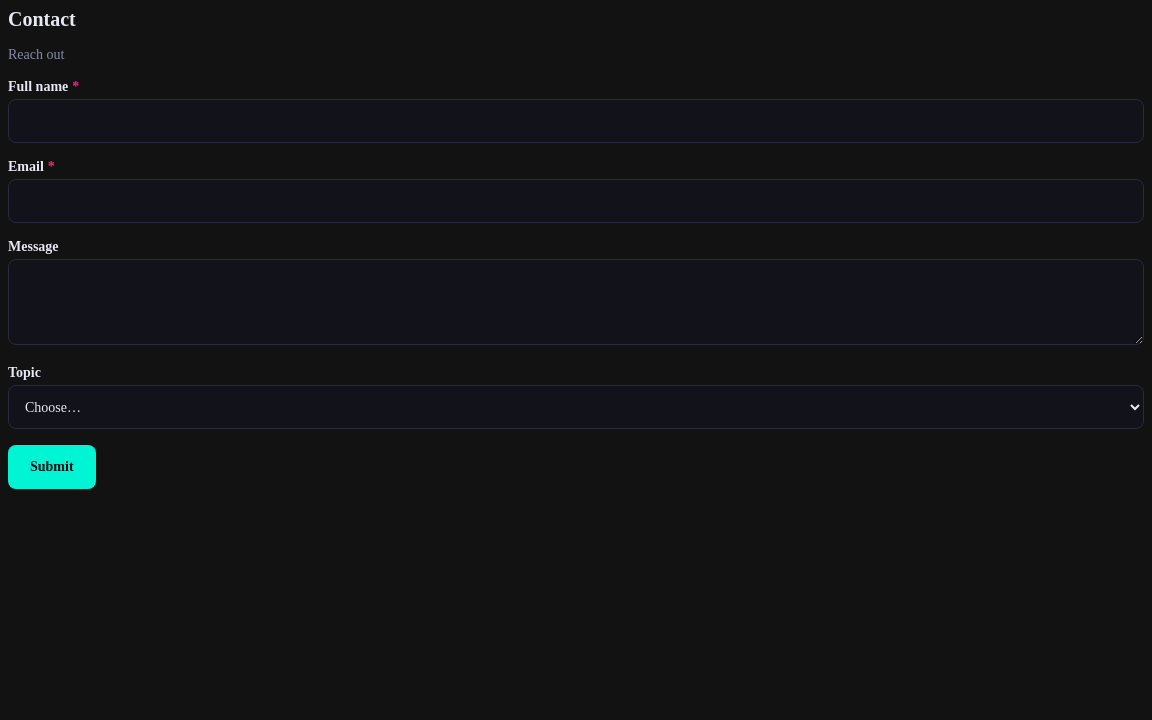
Test: TkxAutoForm › blocks submit and shows an error summary when required fields are empty
The image size is (1152, 720).
Click the button "Submit" at (52, 467), box [8,445,96,489]
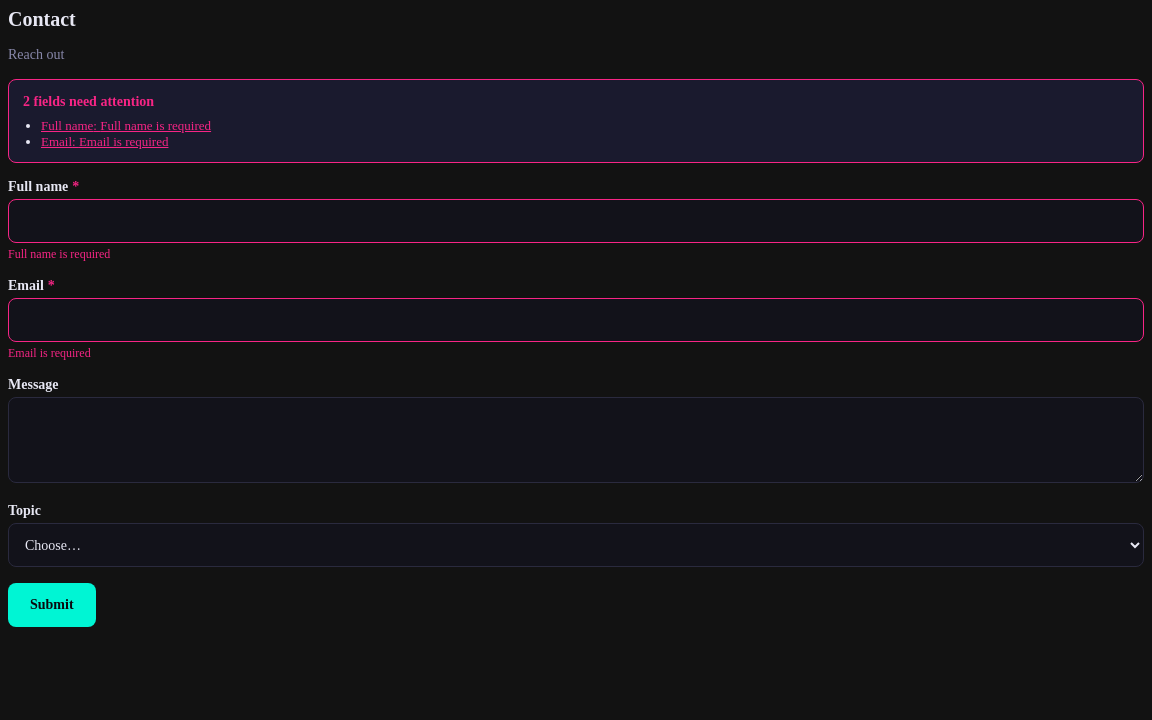
Expected: the message that starts with "field" is shown, [8,79,1144,163]
Expected: the message that starts with "field" shows "Full name", [41,118,211,133]
Expected: the message that starts with "field" shows "Email", [41,134,168,149]
